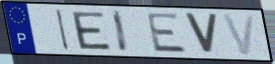E: (145, 12, 190, 55), (69, 11, 113, 52)
I: (112, 9, 131, 55), (55, 8, 71, 52)
V: (182, 12, 220, 56), (220, 13, 258, 57)
